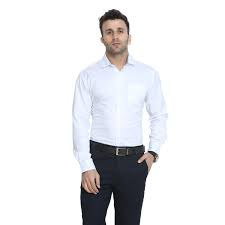F_belt: (86, 135, 149, 162)
F_dress pants: (75, 147, 151, 225)
F_shirt: (65, 46, 170, 171)
